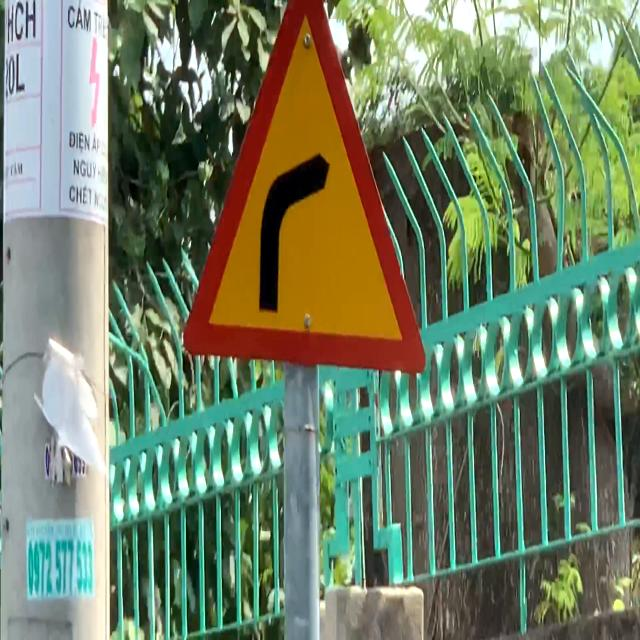W.201b: (172, 0, 443, 388)
